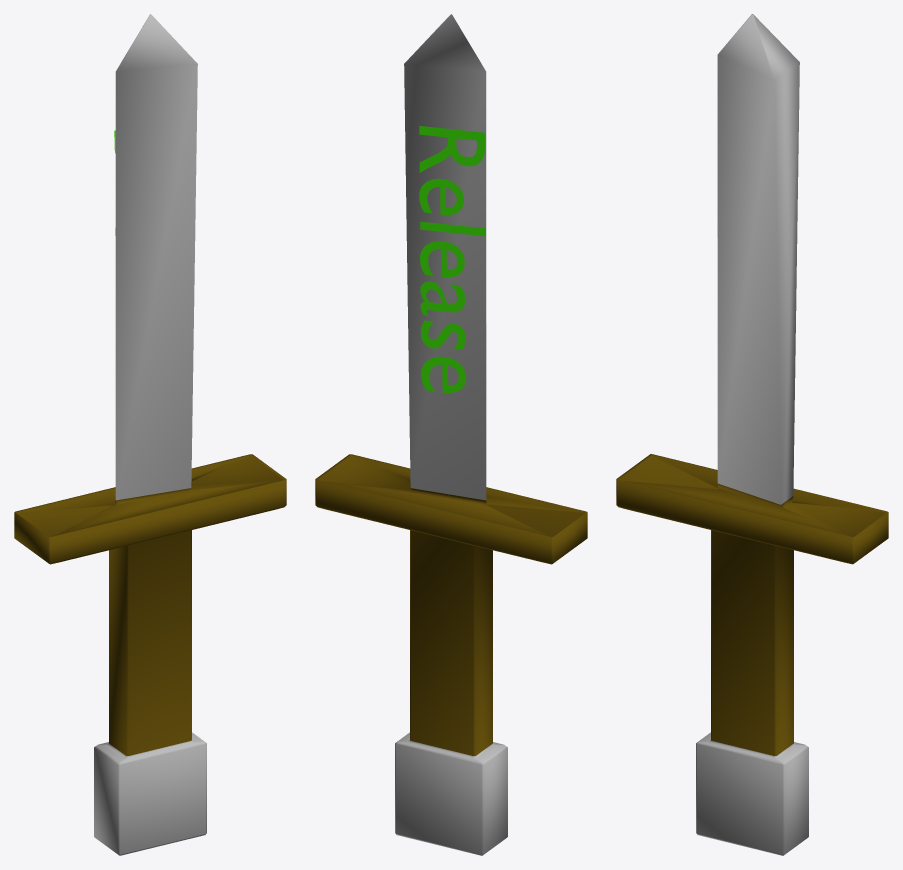
The model's file is Release Sword.fbx.
The picture shows the model from 3 angles, left to right: view 1: azimuth 30°, elevation 25°; view 2: azimuth 150°, elevation 25°; view 3: azimuth 330°, elevation 25°; orthographic projection.
Parts seen in each view (by area): view 1: Cube; view 2: Cube, Text; view 3: Cube.
Boxes of the visible parts, x1,y1,x2,y2 form: Cube: (14,14,286,855); Cube: (315,14,587,855); Text: (419,126,485,392); Cube: (616,14,888,855).
Bounding box in the file's own units: 125 × 411 × 31.73.
